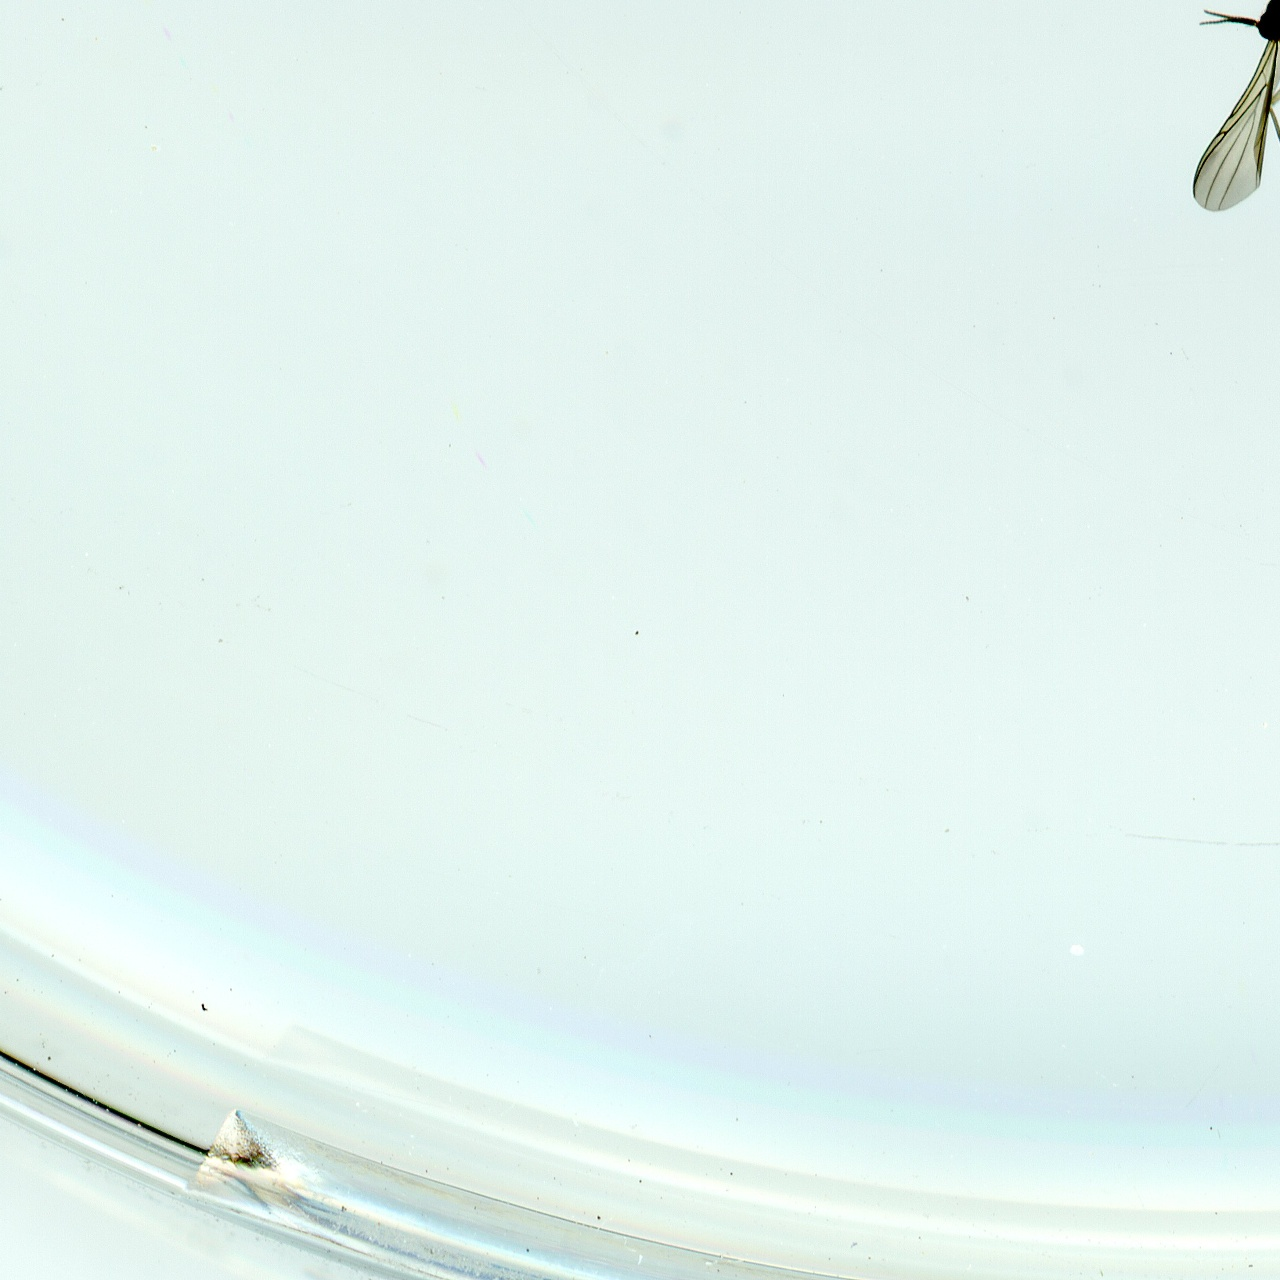arthropod: (1189, 0, 1280, 254)
